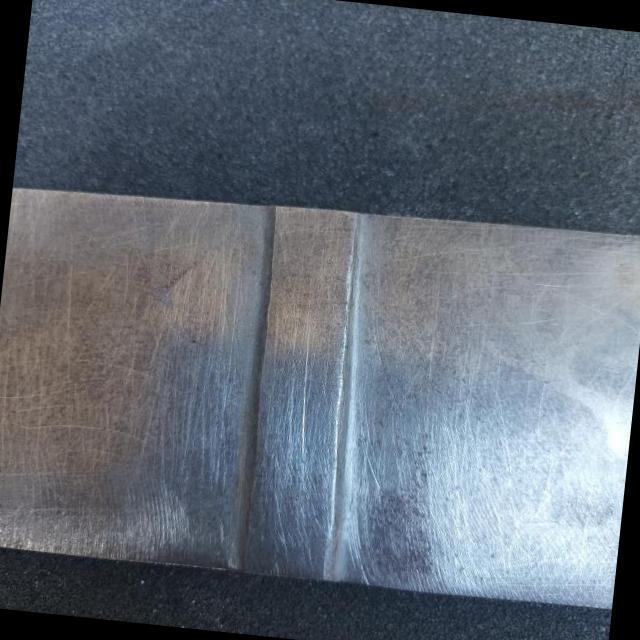defect: (300, 323, 312, 457)
